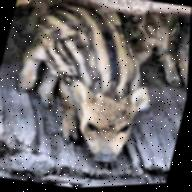boar: (5, 0, 169, 179), (134, 3, 177, 54)
